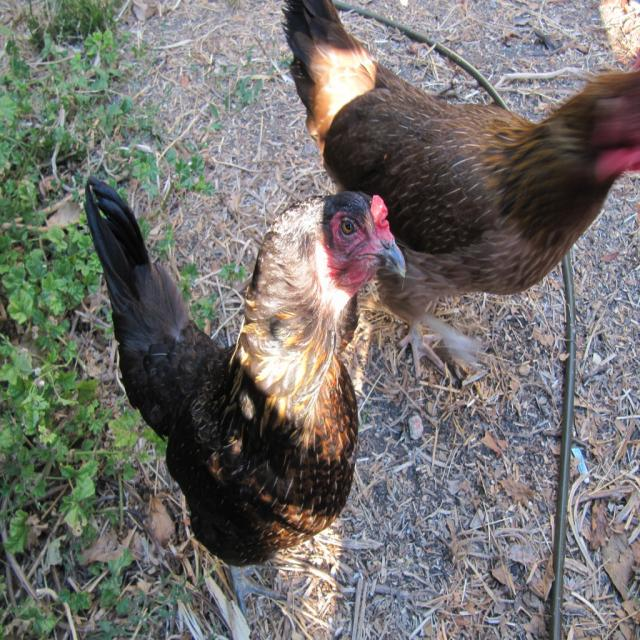Chicken: (86, 173, 406, 621), (291, 0, 640, 385)
